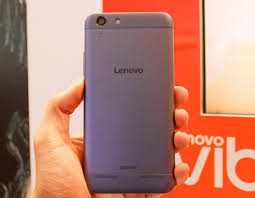lenovo: (82, 10, 175, 195)
